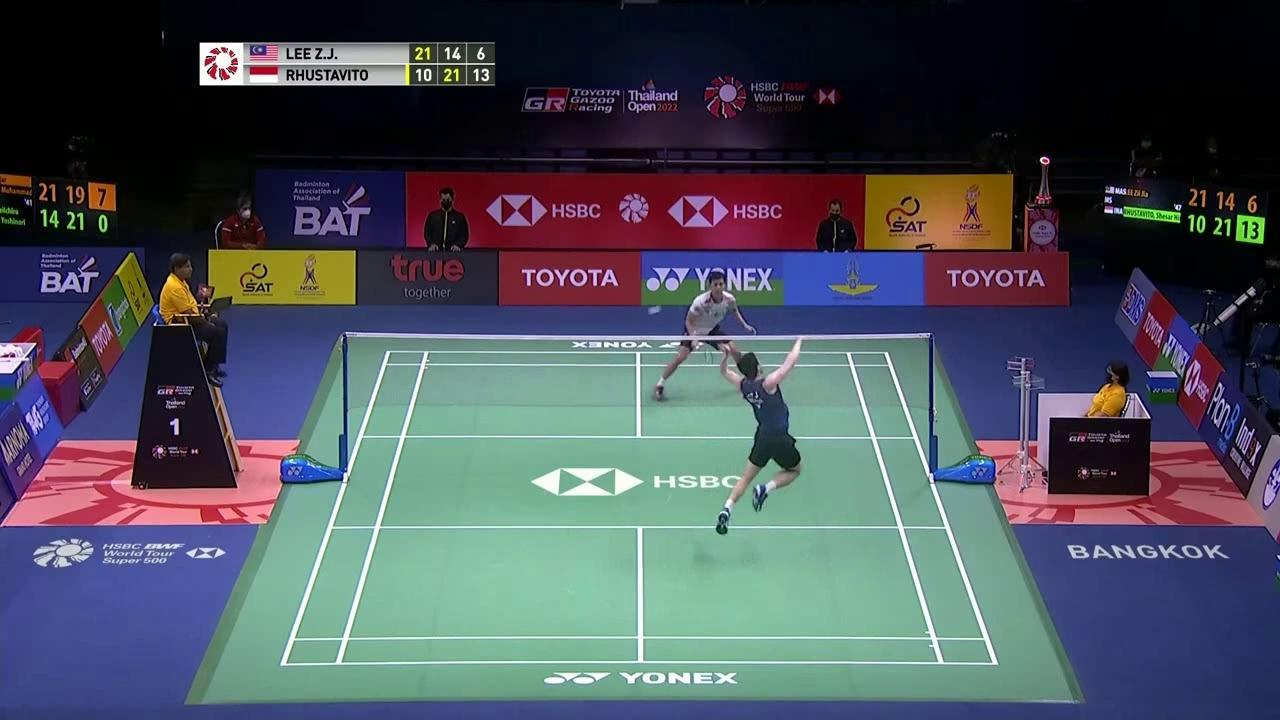racket: (693, 340, 717, 367)
shuttle: (647, 302, 661, 317)
